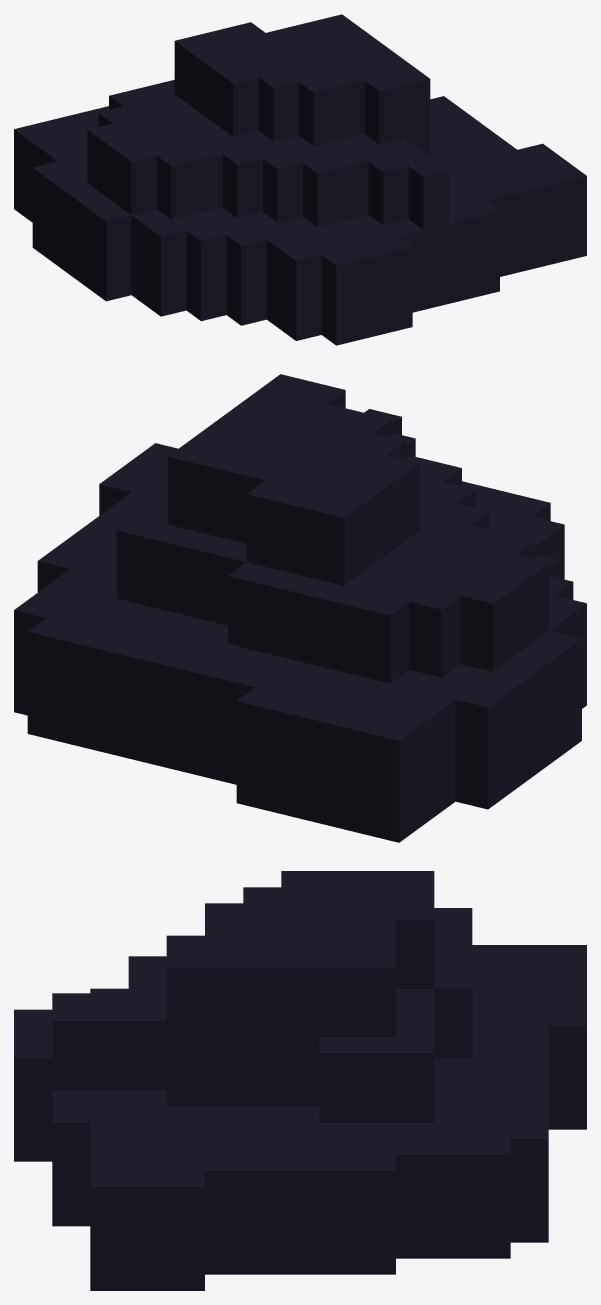
The model's file is rockDecal1.obj.
3 renders of one model, top to bottom at view 1: azimuth 30°, elevation 25°; view 2: azimuth 150°, elevation 25°; view 3: azimuth 270°, elevation 25°, orthographic. The views are drawn at different scales.
Size of the model in its own units: 1.6 by 0.7 by 1.5.
Materials: 1 (1 with a texture image).
